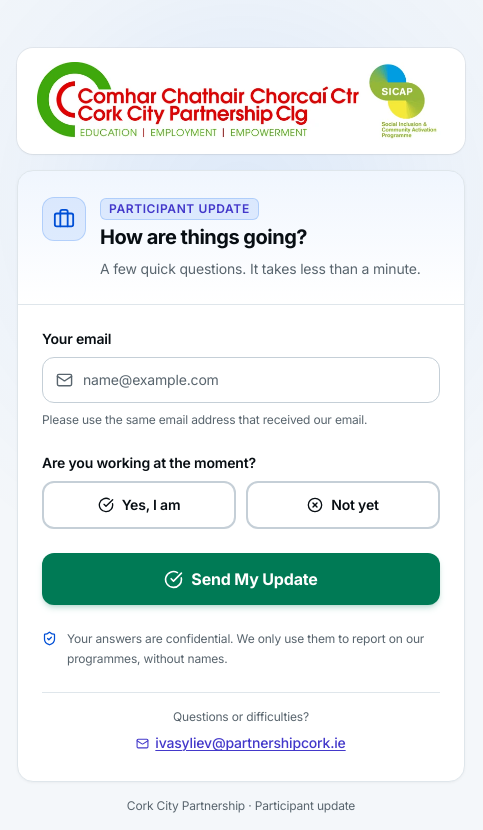
StatusUpdatePage › external list link (/status?list=…) › saves the answer to the list only, without looking up CRM students
Expected: the heading "How are things going?" is shown, [100, 225, 307, 249]
In the field labelled "Your email": (241, 380) [42, 357, 440, 403], type "Olga@Example.com"
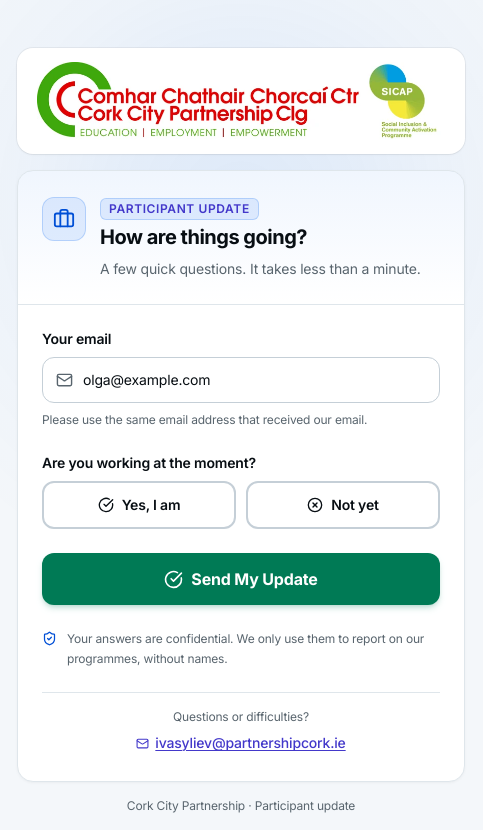
Click the button "Not yet": (343, 505) [246, 481, 440, 529]
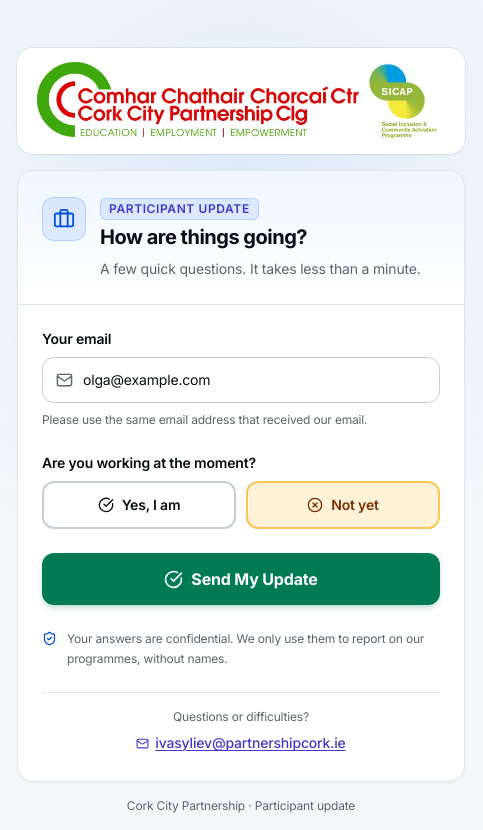
Click the button "Send My Update": (241, 579) [42, 553, 440, 605]
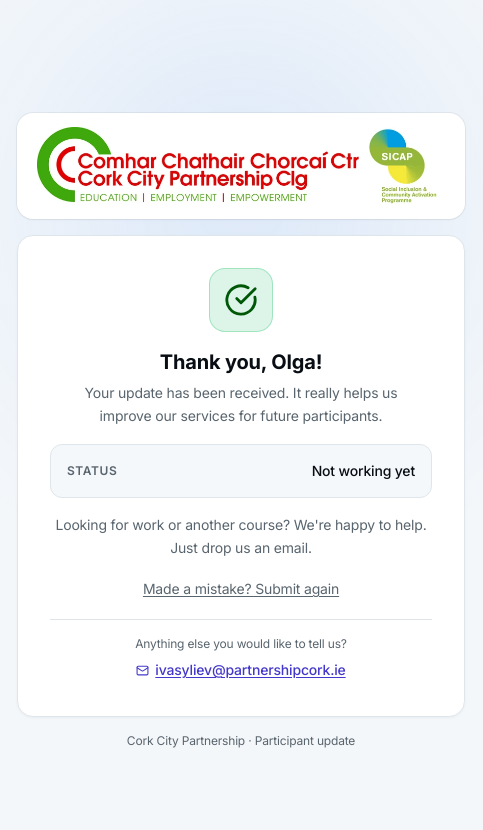
Now the heading "Thank you, Olga!" is shown, box [160, 350, 322, 374]
